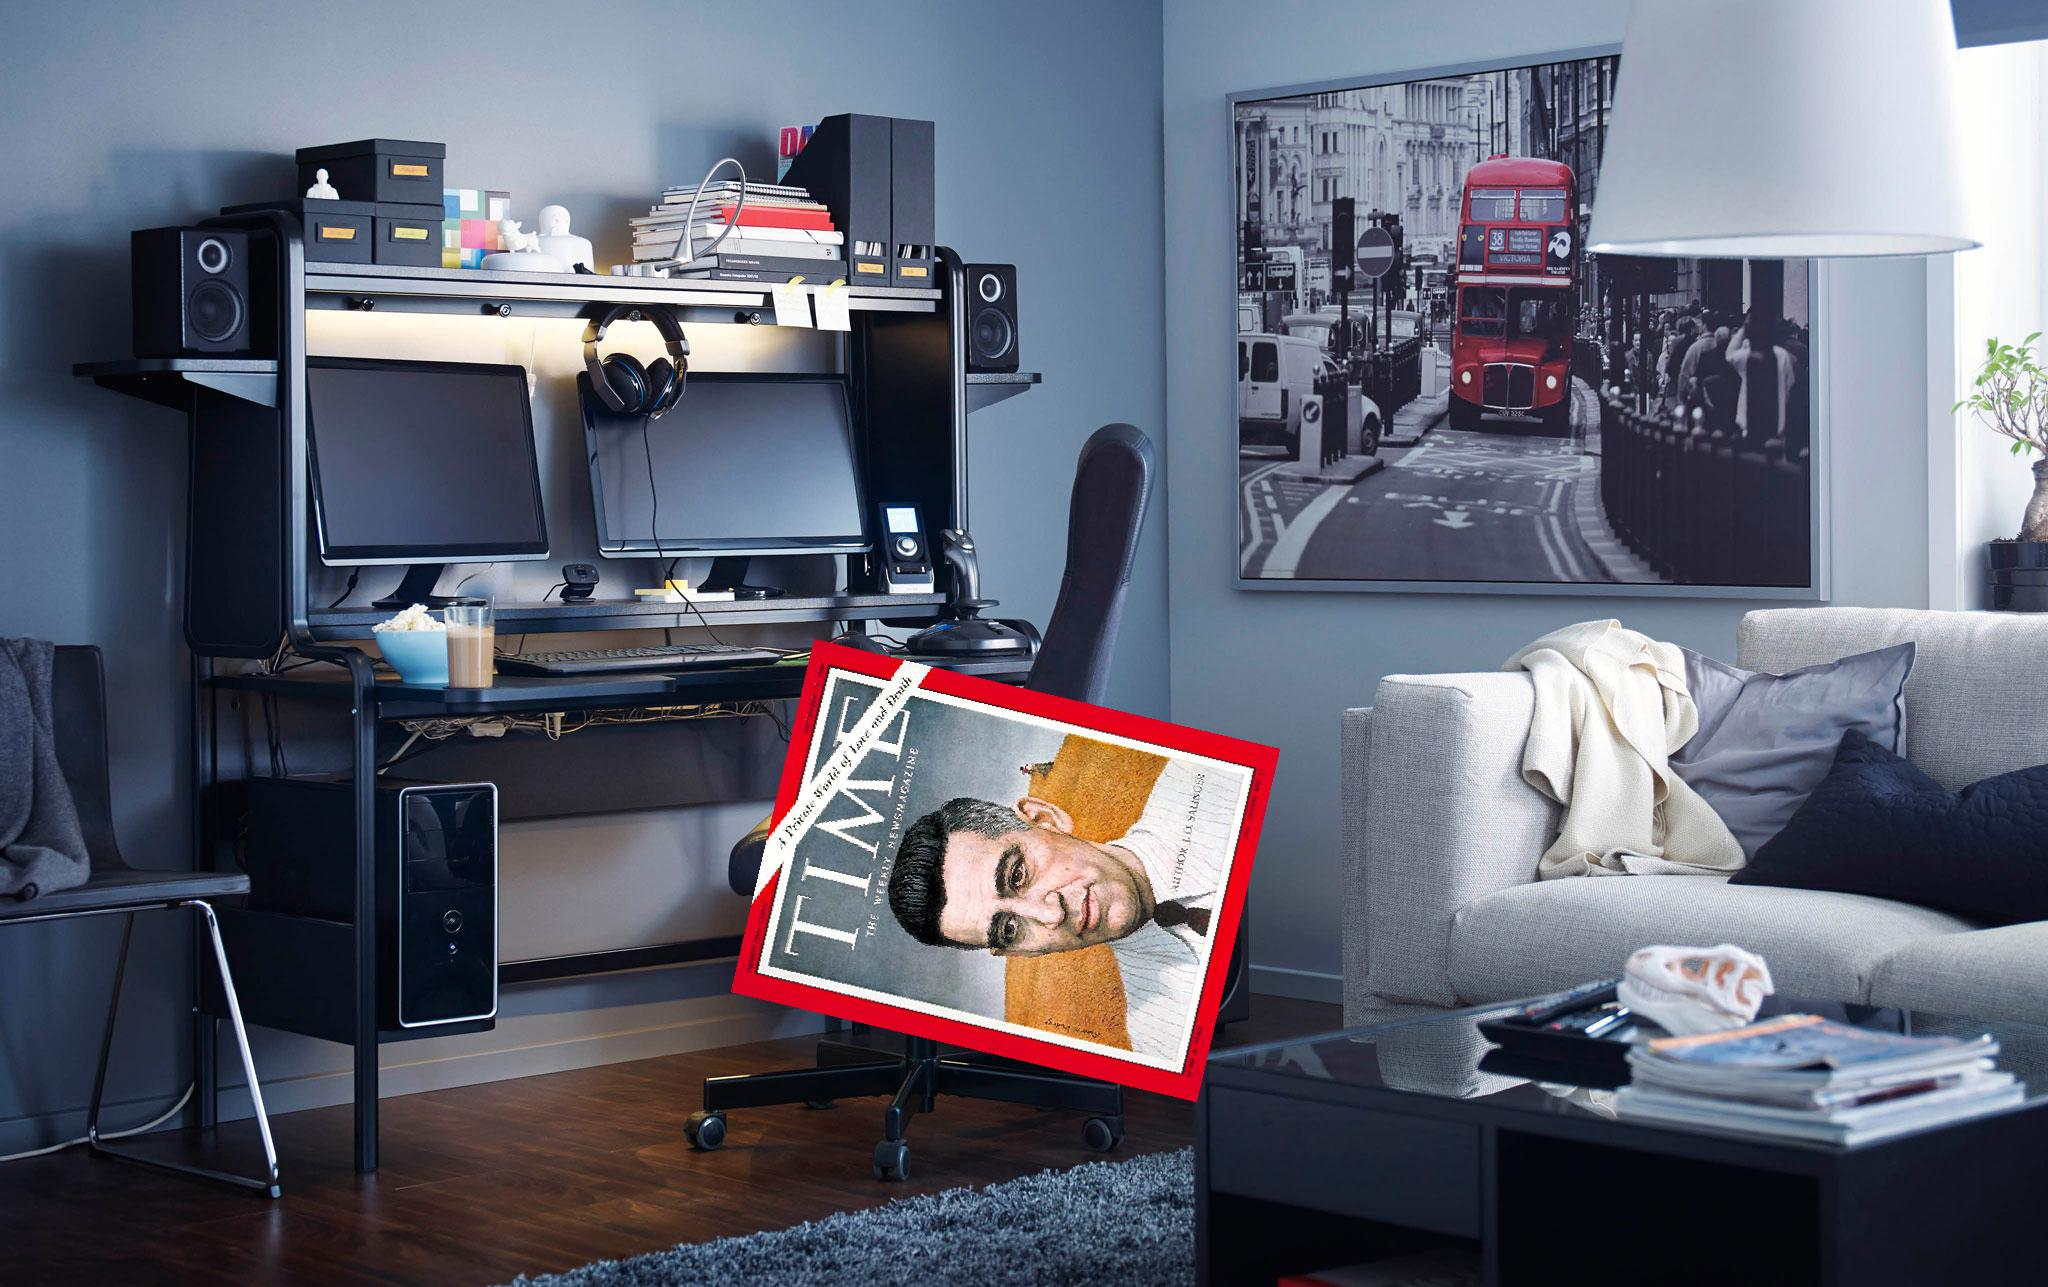times: (717, 642, 1277, 1099)
